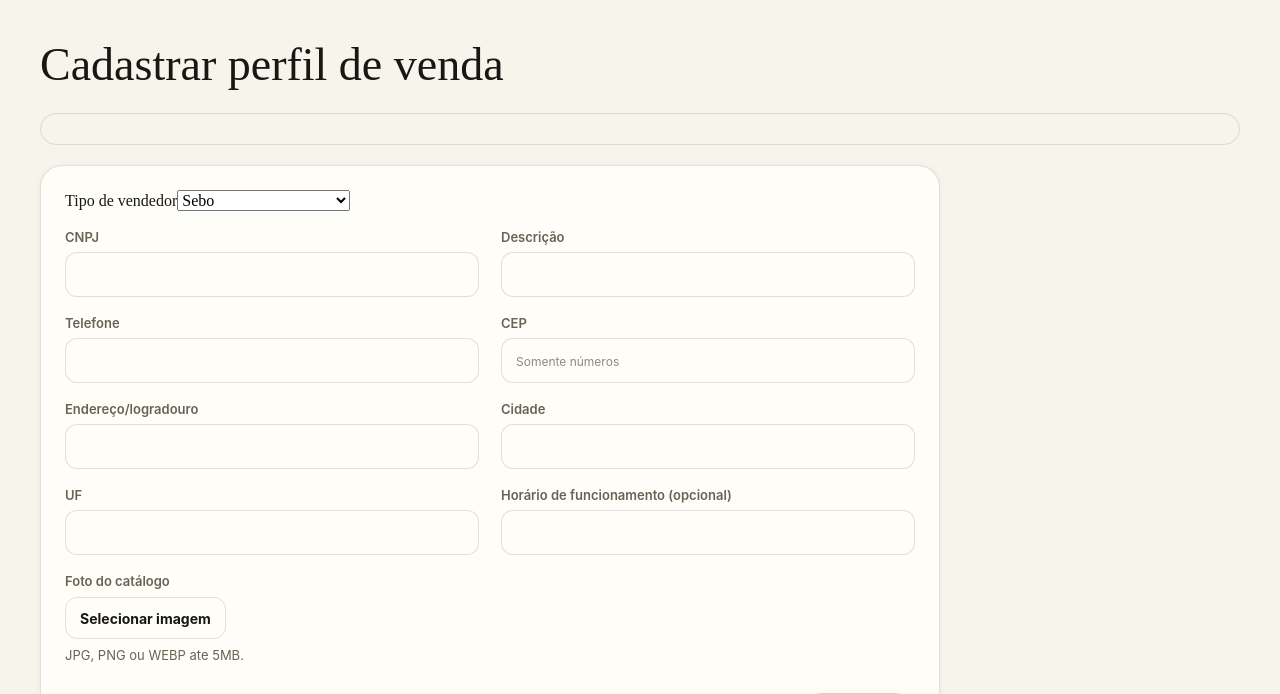
it: autopreenchimento de endereco pelo CEP (ViaCEP) › preenche o endereco do sebo ao completar o CEP no cadastro
This screenshot has width=1280, height=694.
Expected: the heading "Cadastrar perfil de venda" is shown, [40,39,504,90]
In the field labelled "CEP": {"x": 708, "y": 360} [501,338,915,383], type "58400550"
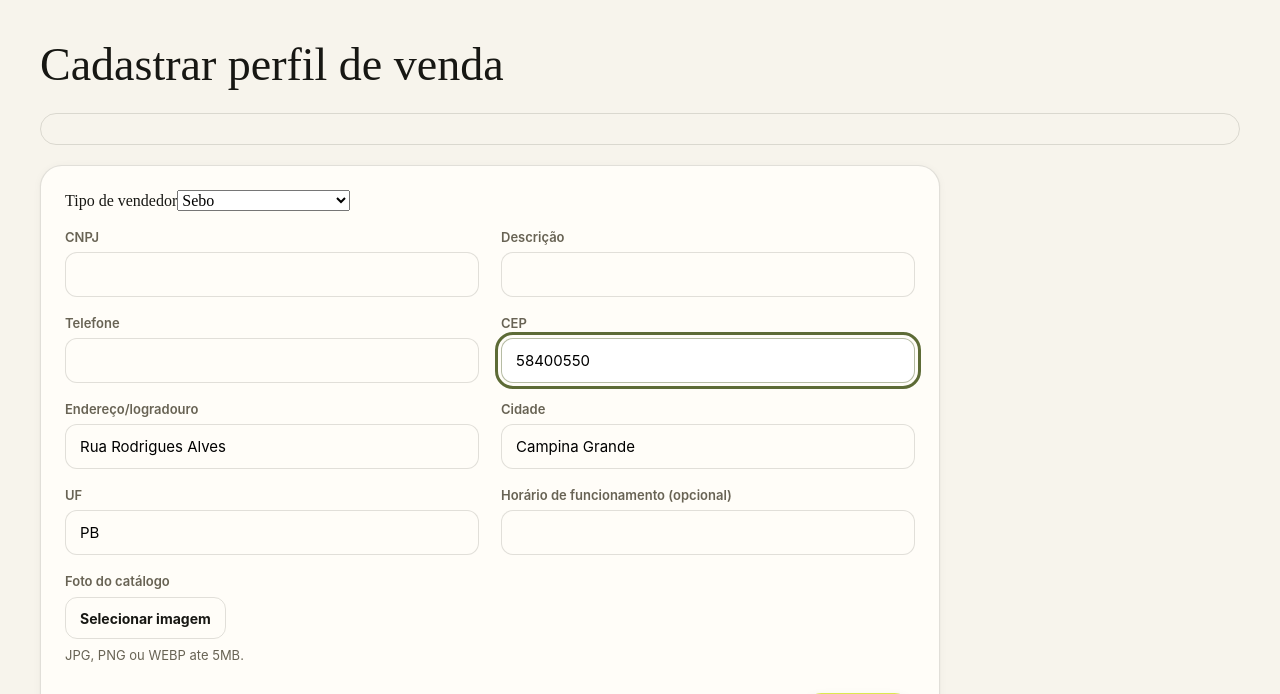
Expected: the field labelled "Endereço/logradouro" holds "Rua Rodrigues Alves", [65,424,479,469]
Expected: the field labelled "Cidade" holds "Campina Grande", [501,424,915,469]
Expected: the field labelled "UF" holds "PB", [65,510,479,555]
